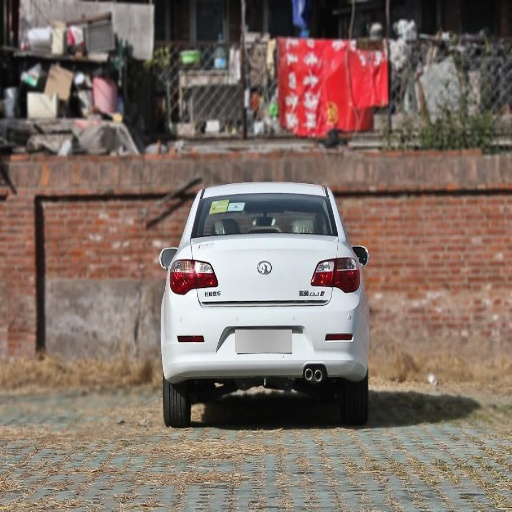back_bumper: (163, 290, 368, 377)
trunk: (171, 237, 351, 344)
